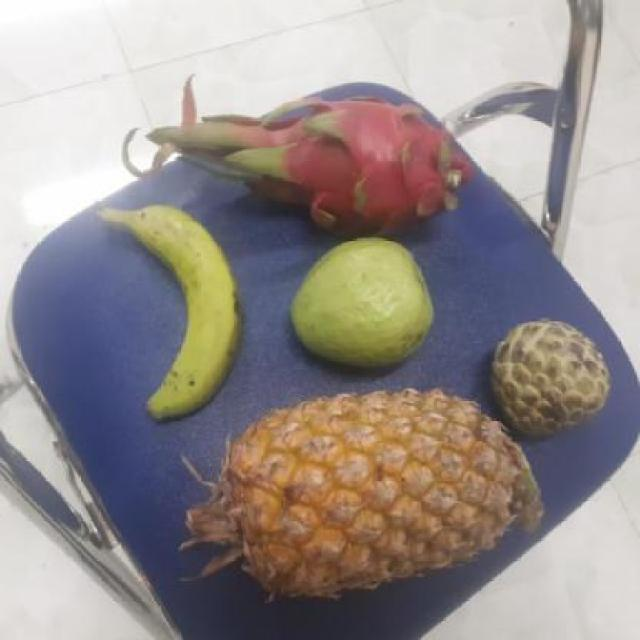banana: (108, 200, 240, 415)
dragon fruit: (270, 92, 455, 237)
guava: (284, 241, 434, 367)
pineapple: (183, 394, 534, 589)
sugar apple: (478, 320, 612, 438)
